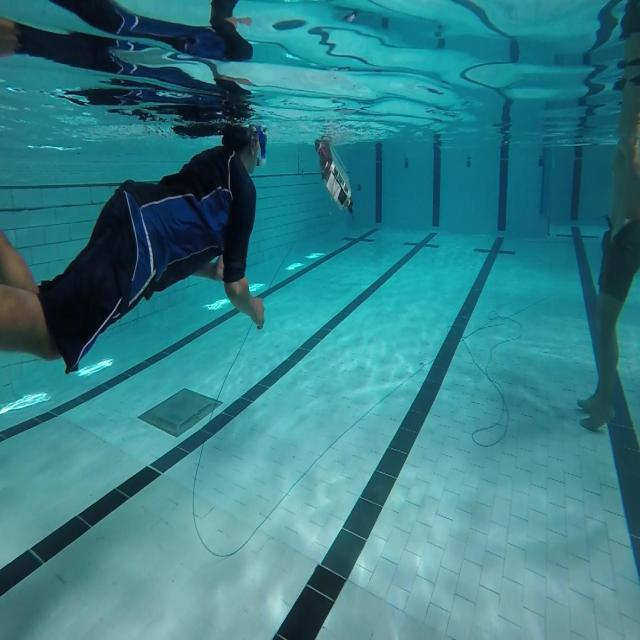human: (0, 120, 267, 374), (576, 1, 640, 432)
